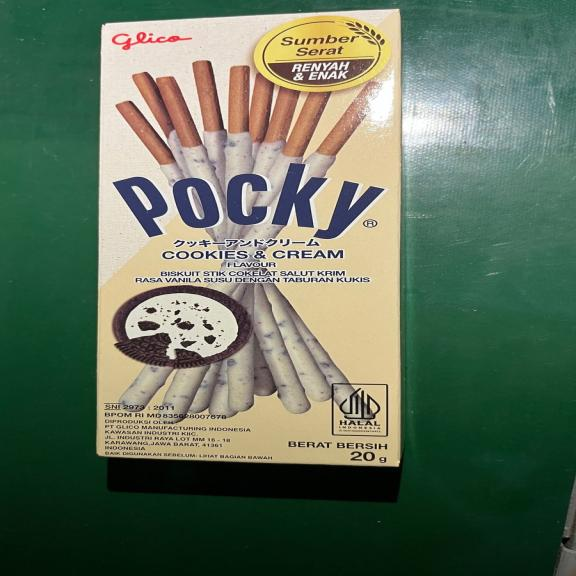Kertas: (102, 4, 399, 474)
